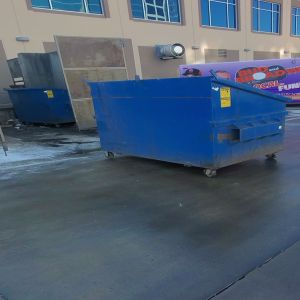Dumpster: (87, 81, 289, 181)
